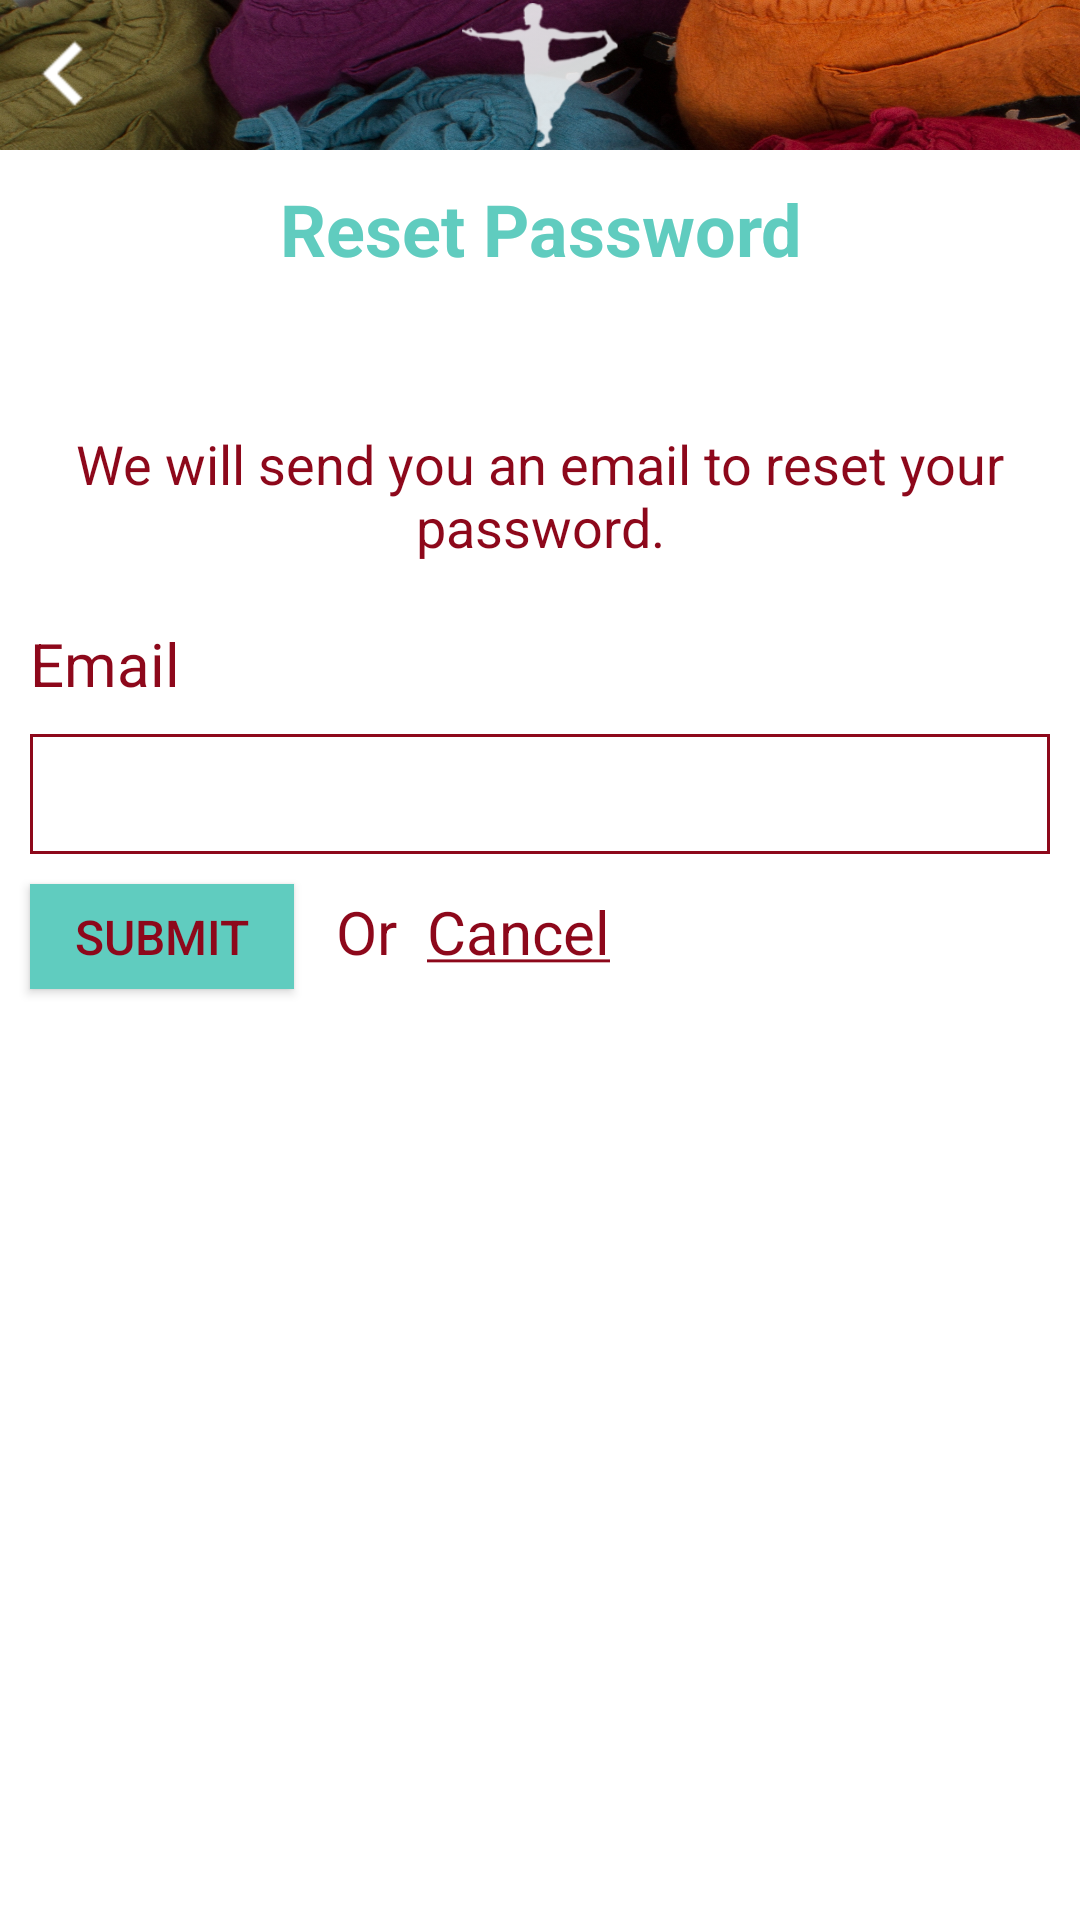

Icon bounding boxes for this 1080 x 1920 phone screenshot, format (x1, y1, x2, y2):
back arrow: (0, 11, 128, 139)
